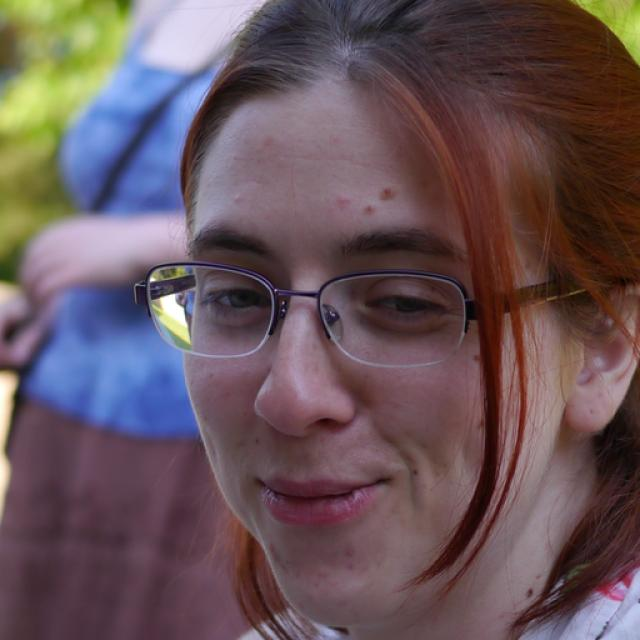Acne: (373, 177, 404, 201), (225, 182, 245, 208), (331, 191, 357, 211), (356, 197, 377, 219)
